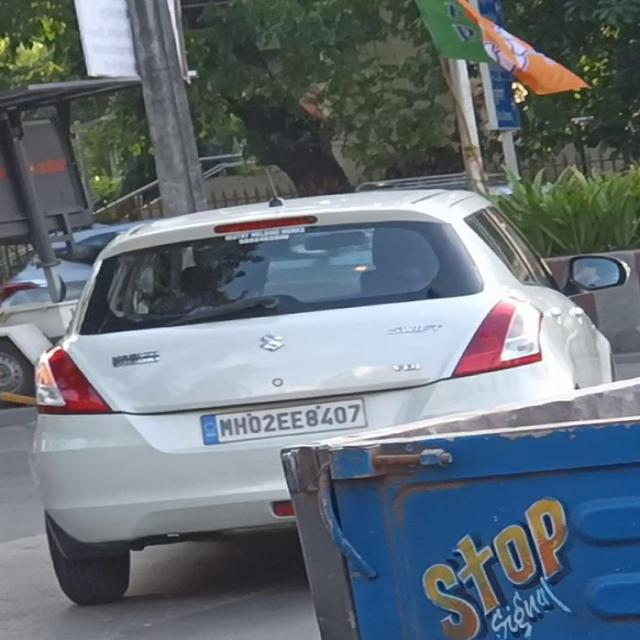Plate: (199, 396, 368, 446)
